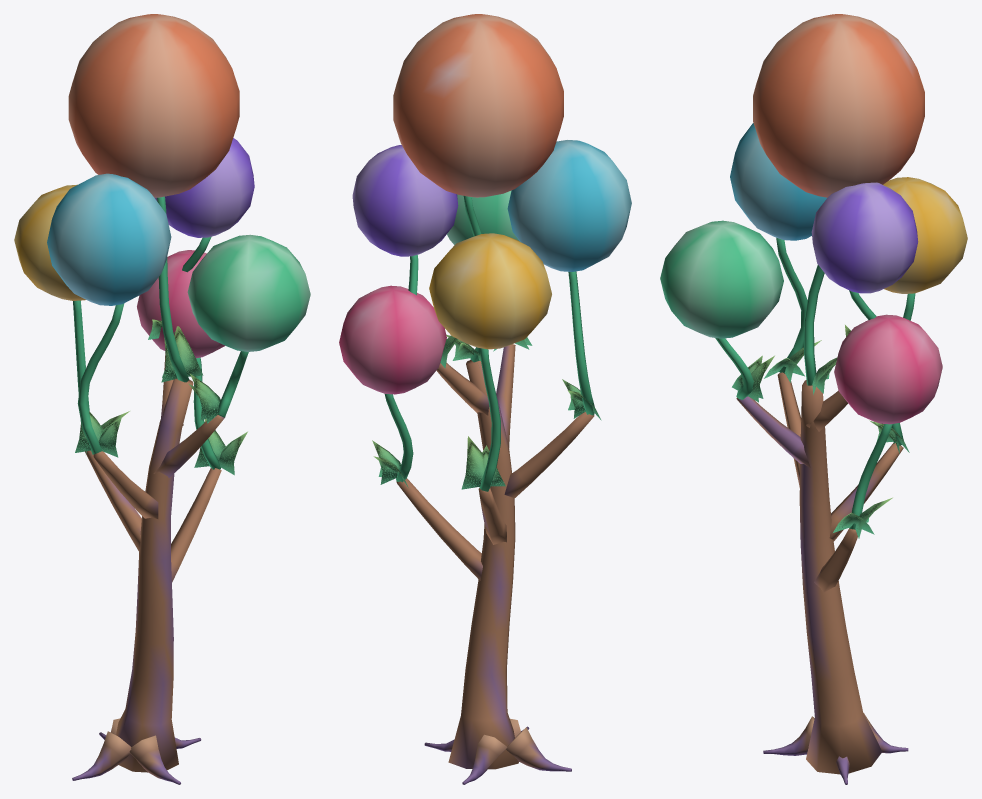
File: verdant_tree_balloon_a.glb
3 renders of one model, left to right at view 1: azimuth 30°, elevation 25°; view 2: azimuth 150°, elevation 25°; view 3: azimuth 270°, elevation 25°, orthographic.
Parts seen in each view (by area): view 1: verdant_tree_balloon_a; view 2: verdant_tree_balloon_a; view 3: verdant_tree_balloon_a.
Part boxes in pixels (left/top/right/bottom): verdant_tree_balloon_a: left=14, top=14, right=310, bottom=784; verdant_tree_balloon_a: left=339, top=14, right=631, bottom=784; verdant_tree_balloon_a: left=660, top=14, right=967, bottom=784.
Bounding box in the file's own units: 3.54 × 10.89 × 4.08.
